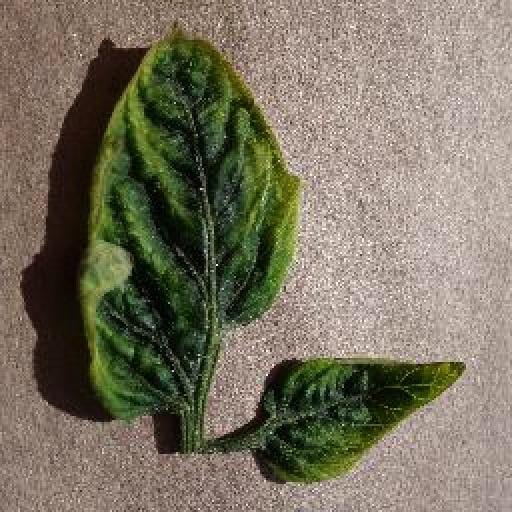disease_tomato: (78, 20, 299, 422), (268, 350, 470, 486)
